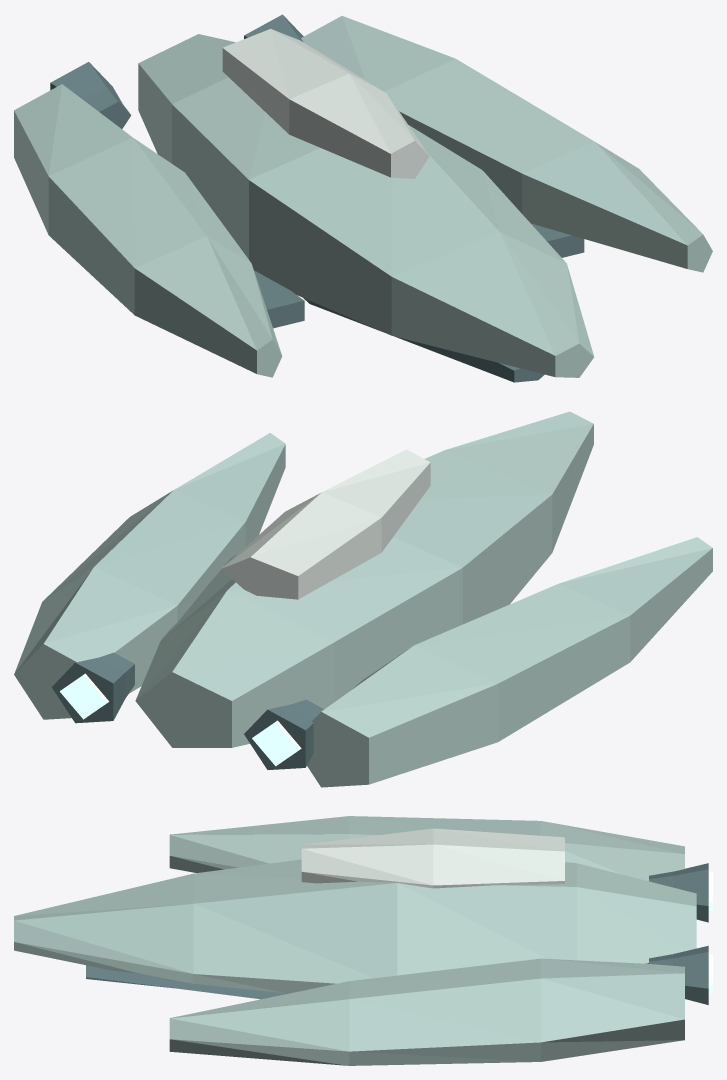
The picture shows the model from 3 angles, top to bottom: view 1: azimuth 30°, elevation 25°; view 2: azimuth 150°, elevation 25°; view 3: azimuth 270°, elevation 25°; orthographic projection. The views are drawn at different scales.
Bounding box in the file's own units: 9.19 × 3.23 × 12.62.
